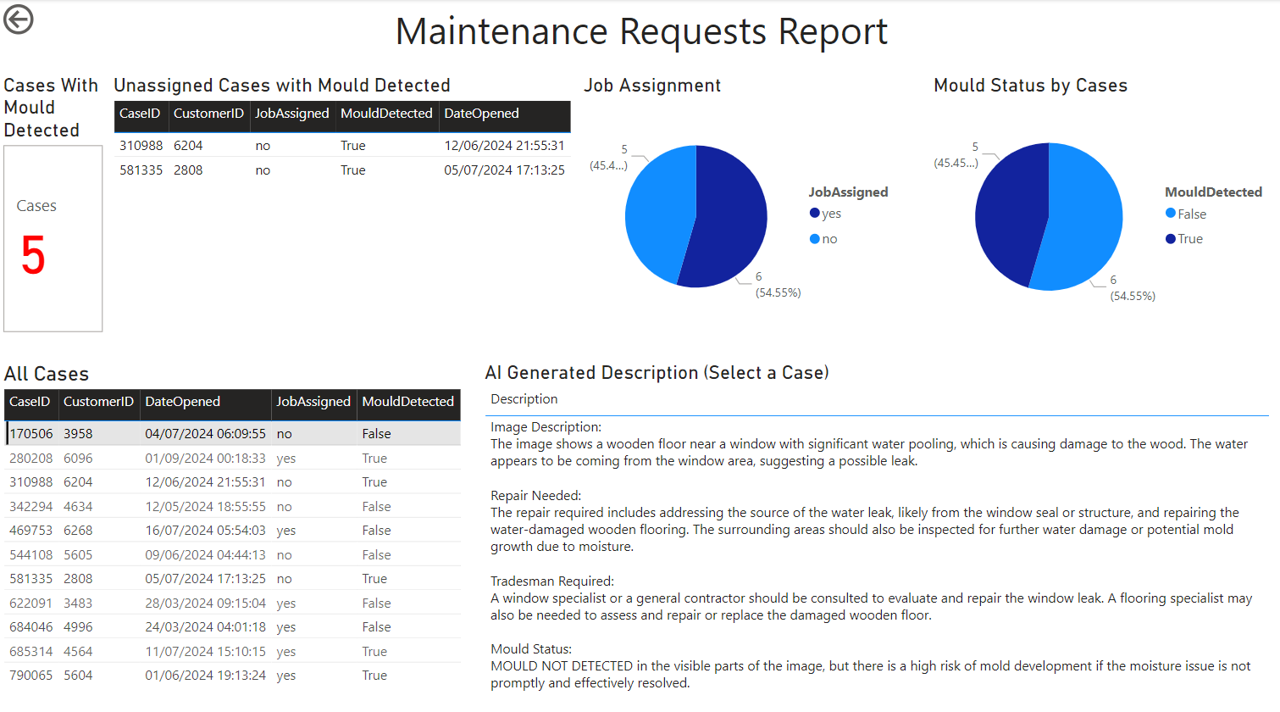

Layout of this report page (visuals, bound fields, positions):
{"tool":"powerbi","page":{"name":"Page 1","canvas":[1280,720],"ordinal":0},"visuals":[{"type":"tableEx","title":"All Cases","fields":{"Values":["MaintenanceRequests (2).CaseID","MaintenanceRequests (2).CustomerID","MaintenanceRequests (2).DateOpened","MaintenanceRequests (2).JobAssigned","MaintenanceRequests (2).MouldDetected"]},"box":[0,359.9,478.5,359.9],"z":0},{"type":"tableEx","title":"AI Generated Description (Select a Case)","fields":{"Values":["MaintenanceRequests (2).Description"]},"box":[478.5,359.9,801.5,356],"z":1000},{"type":"pieChart","title":"Mould Status by Cases","fields":{"Category":["MaintenanceRequests (2).MouldDetected"],"Y":["CountNonNull(MaintenanceRequests (2).MouldDetected)"]},"box":[926,73.9,354,262.6],"z":2000},{"type":"textbox","box":[0,0,1280,62.2],"z":3000},{"type":"cardVisual","title":"Cases With Mould Detected","fields":{"Data":["CountNonNull(MaintenanceRequests (2).MouldDetected)"]},"box":[0,74.4,109.7,262.1],"z":4000},{"type":"actionButton","box":[0,0,100,40],"z":5000},{"type":"tableEx","title":"Unassigned Cases with Mould Detected","fields":{"Values":["MaintenanceRequests (2).CaseID","MaintenanceRequests (2).CustomerID","MaintenanceRequests (2).JobAssigned","MaintenanceRequests (2).MouldDetected","MaintenanceRequests (2).DateOpened"]},"box":[109.7,74.4,467.9,262.1],"z":6000},{"type":"pieChart","title":"Job Assignment","fields":{"Category":["MaintenanceRequests (2).JobAssigned"],"Y":["CountNonNull(MaintenanceRequests (2).CaseID)"]},"box":[577.6,74.4,330.1,262.1],"z":7000}]}

Visuals, with their boxes in screenshot pixels (x1, y1, x2, y2), scaled from the page's 1280x720 canvas onto the 1280x712 screenshot:
"All Cases" tableEx: (x1=0, y1=356, x2=478, y2=711)
"AI Generated Description (Select a Case)" tableEx: (x1=478, y1=356, x2=1279, y2=708)
"Mould Status by Cases" pieChart: (x1=926, y1=73, x2=1279, y2=333)
textbox: (x1=0, y1=0, x2=1279, y2=62)
"Cases With Mould Detected" cardVisual: (x1=0, y1=74, x2=110, y2=333)
actionButton: (x1=0, y1=0, x2=100, y2=40)
"Unassigned Cases with Mould Detected" tableEx: (x1=110, y1=74, x2=578, y2=333)
"Job Assignment" pieChart: (x1=578, y1=74, x2=908, y2=333)
